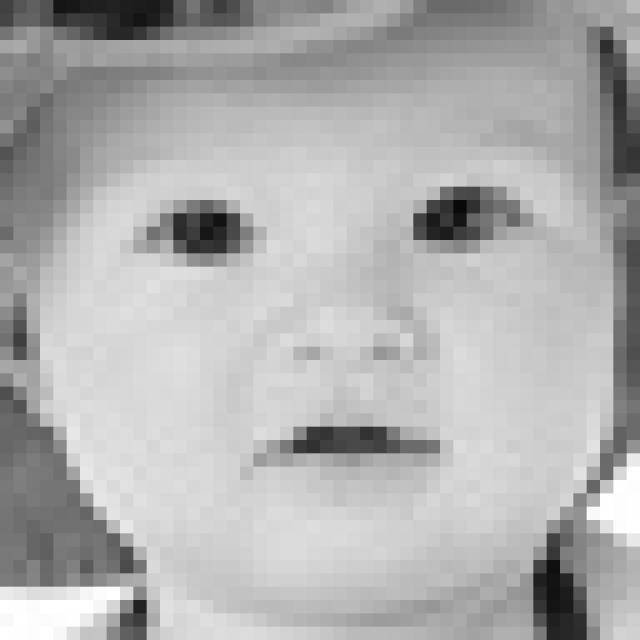neutral: (94, 127, 570, 522)
